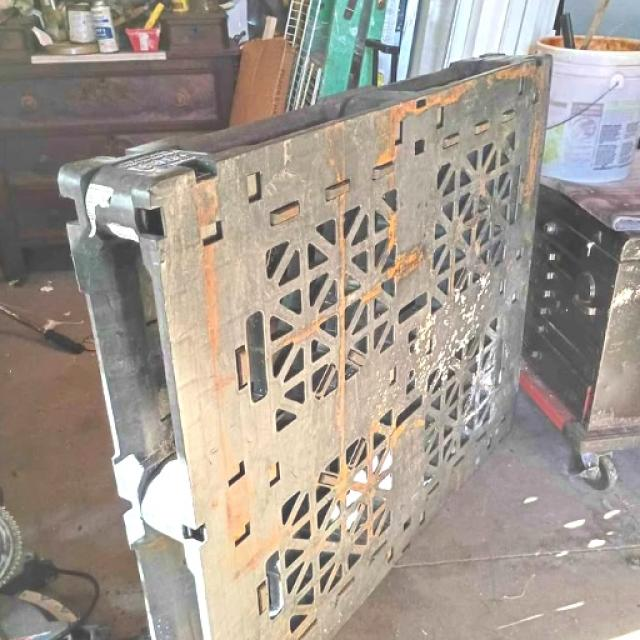igps: (45, 40, 568, 640)
